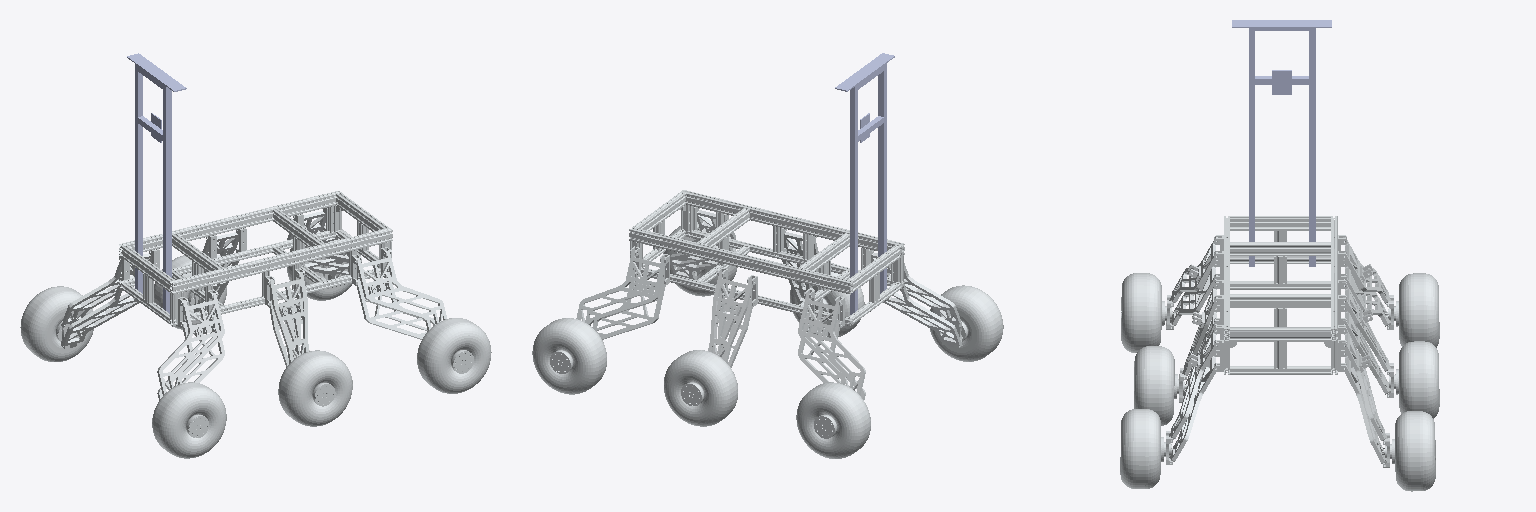
URDF robot description (rover_description):
<robot
  name="rover_description">
  <link
    name="base_link">
    <inertial>
      <origin
        xyz="-0.167915742250863 -0.00938144904480165 0.0624306639563025"
        rpy="0 0 0" />
      <mass
        value="3.87801725916137" />
      <inertia
        ixx="0.0811182033282846"
        ixy="-0.00358580720829277"
        ixz="0.0047898322925803"
        iyy="0.283071990951495"
        iyz="-0.000580133628337215"
        izz="0.340422119687878" />
    </inertial>
    <visual>
      <origin
        xyz="0 0 0"
        rpy="0 0 0" />
      <geometry>
        <mesh
          filename="package://rover_description/meshes/base_link.STL" />
      </geometry>
      <material
        name="">
        <color
          rgba="0.898039215686275 0.917647058823529 0.929411764705882 1" />
      </material>
    </visual>
    <collision>
      <origin
        xyz="0 0 0"
        rpy="0 0 0" />
      <geometry>
        <mesh
          filename="package://rover_description/meshes/base_link.STL" />
      </geometry>
    </collision>
  </link>
  <link
    name="front_left">
    <inertial>
      <origin
        xyz="0.162886988779887 -0.215918147278518 -0.11651747084858"
        rpy="0 0 0" />
      <mass
        value="2.26275358584564" />
      <inertia
        ixx="0.0370475635427153"
        ixy="0.0149342025682205"
        ixz="0.0109400975211723"
        iyy="0.0298431001565816"
        iyz="-0.014956189740743"
        izz="0.0381374574177658" />
    </inertial>
    <visual>
      <origin
        xyz="0 0 0"
        rpy="0 0 0" />
      <geometry>
        <mesh
          filename="package://rover_description/meshes/front_left.STL" />
      </geometry>
      <material
        name="">
        <color
          rgba="0.898039215686275 0.917647058823529 0.929411764705882 1" />
      </material>
    </visual>
    <collision>
      <origin
        xyz="0 0 0"
        rpy="0 0 0" />
      <geometry>
        <mesh
          filename="package://rover_description/meshes/front_left.STL" />
      </geometry>
    </collision>
  </link>
  <joint
    name="front_left_joint"
    type="fixed">
    <origin
      xyz="0.103 0.18087 0.0765"
      rpy="1.5708 0 0" />
    <parent
      link="base_link" />
    <child
      link="front_left" />
    <axis
      xyz="0 0 0" />
  </joint>
  <link
    name="back_left">
    <inertial>
      <origin
        xyz="-0.162981754145838 -0.164904981821672 -0.0414398630181014"
        rpy="0 0 0" />
      <mass
        value="2.2627535858659" />
      <inertia
        ixx="0.0375355897014673"
        ixy="-0.018315212620332"
        ixz="-0.0035271645798929"
        iyy="0.0198064136818086"
        iyz="-0.00637221235572938"
        izz="0.048666783620615" />
    </inertial>
    <visual>
      <origin
        xyz="0 0 0"
        rpy="0 0 0" />
      <geometry>
        <mesh
          filename="package://rover_description/meshes/back_left.STL" />
      </geometry>
      <material
        name="">
        <color
          rgba="0.898039215686275 0.917647058823529 0.929411764705882 1" />
      </material>
    </visual>
    <collision>
      <origin
        xyz="0 0 0"
        rpy="0 0 0" />
      <geometry>
        <mesh
          filename="package://rover_description/meshes/back_left.STL" />
      </geometry>
    </collision>
  </link>
  <joint
    name="back_left_joint"
    type="fixed">
    <origin
      xyz="-0.399 0.192 -0.0085"
      rpy="2.0493 0 0" />
    <parent
      link="base_link" />
    <child
      link="back_left" />
    <axis
      xyz="0 0 0" />
  </joint>
  <link
    name="back_right">
    <inertial>
      <origin
        xyz="-0.162981772699674 -0.231992125957204 0.00748839668721479"
        rpy="0 0 0" />
      <mass
        value="2.26275358586881" />
      <inertia
        ixx="0.0376119867047362"
        ixy="-0.0183400956398054"
        ixz="0.00351048610673877"
        iyy="0.0197933283695233"
        iyz="0.00635437758399683"
        izz="0.0487562770805659" />
    </inertial>
    <visual>
      <origin
        xyz="0 0 0"
        rpy="0 0 0" />
      <geometry>
        <mesh
          filename="package://rover_description/meshes/back_right.STL" />
      </geometry>
      <material
        name="">
        <color
          rgba="0.898039215686275 0.917647058823529 0.929411764705882 1" />
      </material>
    </visual>
    <collision>
      <origin
        xyz="0 0 0"
        rpy="0 0 0" />
      <geometry>
        <mesh
          filename="package://rover_description/meshes/back_right.STL" />
      </geometry>
    </collision>
  </link>
  <joint
    name="back_right_joint"
    type="fixed">
    <origin
      xyz="-0.399 -0.191 0.0665"
      rpy="1.0854 0 0" />
    <parent
      link="base_link" />
    <child
      link="back_right" />
    <axis
      xyz="0 0 0" />
  </joint>
  <link
    name="mid_right">
    <inertial>
      <origin
        xyz="-0.0649971156595212 0.229693834659478 -0.0155335691747258"
        rpy="0 0 0" />
      <mass
        value="2.13425372049233" />
      <inertia
        ixx="0.0361755405494511"
        ixy="-5.03375098942726E-06"
        ixz="2.68328418158515E-06"
        iyy="0.006938041446141"
        iyz="0.00682006400202464"
        izz="0.0341369303319802" />
    </inertial>
    <visual>
      <origin
        xyz="0 0 0"
        rpy="0 0 0" />
      <geometry>
        <mesh
          filename="package://rover_description/meshes/mid_right.STL" />
      </geometry>
      <material
        name="">
        <color
          rgba="0.898039215686275 0.917647058823529 0.929411764705882 1" />
      </material>
    </visual>
    <collision>
      <origin
        xyz="0 0 0"
        rpy="0 0 0" />
      <geometry>
        <mesh
          filename="package://rover_description/meshes/mid_right.STL" />
      </geometry>
    </collision>
  </link>
  <joint
    name="mid_right_joint"
    type="fixed">
    <origin
      xyz="-0.083 -0.191 0.0665"
      rpy="-1.9102 0 0" />
    <parent
      link="base_link" />
    <child
      link="mid_right" />
    <axis
      xyz="0 0 0" />
  </joint>
  <link
    name="front_right">
    <inertial>
      <origin
        xyz="-0.163057654672996 -0.232048924021065 -0.00711767878082914"
        rpy="0 0 0" />
      <mass
        value="2.2627535858721" />
      <inertia
        ixx="0.0377008253361543"
        ixy="-0.018390387285993"
        ixz="-0.0034962884949824"
        iyy="0.0198001303441898"
        iyz="-0.0063312239246662"
        izz="0.0488843492402936" />
    </inertial>
    <visual>
      <origin
        xyz="0 0 0"
        rpy="0 0 0" />
      <geometry>
        <mesh
          filename="package://rover_description/meshes/front_right.STL" />
      </geometry>
      <material
        name="">
        <color
          rgba="0.898039215686275 0.917647058823529 0.929411764705882 1" />
      </material>
    </visual>
    <collision>
      <origin
        xyz="0 0 0"
        rpy="0 0 0" />
      <geometry>
        <mesh
          filename="package://rover_description/meshes/front_right.STL" />
      </geometry>
    </collision>
  </link>
  <joint
    name="front_right_joint"
    type="fixed">
    <origin
      xyz="0.103 -0.191 0.0665"
      rpy="2.0644 0 3.1416" />
    <parent
      link="base_link" />
    <child
      link="front_right" />
    <axis
      xyz="0 0 0" />
  </joint>
  <link
    name="antenna">
    <inertial>
      <origin
        xyz="0.0266465093411985 -0.439522553116282 -0.00892368045649072"
        rpy="0 0 0" />
      <mass
        value="0.841200000000004" />
      <inertia
        ixx="0.0514324532726106"
        ixy="-1.14660429812846E-17"
        ixz="-2.03611622193766E-17"
        iyy="0.00593412590028532"
        iyz="0.000250698864479315"
        izz="0.0572766473723253" />
    </inertial>
    <visual>
      <origin
        xyz="0 0 0"
        rpy="0 0 0" />
      <geometry>
        <mesh
          filename="package://rover_description/meshes/antenna.STL" />
      </geometry>
      <material
        name="">
        <color
          rgba="0.792156862745098 0.819607843137255 0.933333333333333 1" />
      </material>
    </visual>
    <collision>
      <origin
        xyz="0 0 0"
        rpy="0 0 0" />
      <geometry>
        <mesh
          filename="package://rover_description/meshes/antenna.STL" />
      </geometry>
    </collision>
  </link>
  <joint
    name="antenna_joint"
    type="fixed">
    <origin
      xyz="-0.508 0.031147 0.018226"
      rpy="-1.5708 -6.123E-17 -1.5708" />
    <parent
      link="base_link" />
    <child
      link="antenna" />
    <axis
      xyz="0 0 0" />
  </joint>
  <link
    name="camera">
    <inertial>
      <origin
        xyz="-0.0367218445696466 0.182133887938988 -1.0639015501912E-09"
        rpy="0 0 0" />
      <mass
        value="0.237009266100115" />
      <inertia
        ixx="0.00179590769076528"
        ixy="-6.5203901668227E-11"
        ixz="-1.76867999108529E-11"
        iyy="4.73181891509168E-05"
        iyz="1.34363641690349E-11"
        izz="0.00182305206851972" />
    </inertial>
    <visual>
      <origin
        xyz="0 0 0"
        rpy="0 0 0" />
      <geometry>
        <mesh
          filename="package://rover_description/meshes/camera.STL" />
      </geometry>
      <material
        name="">
        <color
          rgba="0.898039215686275 0.917647058823529 0.929411764705882 1" />
      </material>
    </visual>
    <collision>
      <origin
        xyz="0 0 0"
        rpy="0 0 0" />
      <geometry>
        <mesh
          filename="package://rover_description/meshes/camera.STL" />
      </geometry>
    </collision>
  </link>
  <joint
    name="camera_joint"
    type="fixed">
    <origin
      xyz="0.242 -0.18213 0.14822"
      rpy="0 -1.5708 0" />
    <parent
      link="base_link" />
    <child
      link="camera" />
    <axis
      xyz="0 0 0" />
  </joint>
  <link
    name="mid_left">
    <inertial>
      <origin
        xyz="-0.0650755400521924 0.228364718768154 0.009094867760298"
        rpy="0 0 0" />
      <mass
        value="2.07603410965556" />
      <inertia
        ixx="0.0370912529767464"
        ixy="1.52950147458274E-05"
        ixz="3.94456235950462E-06"
        iyy="0.00665169124905468"
        iyz="-0.00652533818881066"
        izz="0.0353317185753018" />
    </inertial>
    <visual>
      <origin
        xyz="0 0 0"
        rpy="0 0 0" />
      <geometry>
        <mesh
          filename="package://rover_description/meshes/mid_left.STL" />
      </geometry>
      <material
        name="">
        <color
          rgba="0.898039215686275 0.917647058823529 0.929411764705882 1" />
      </material>
    </visual>
    <collision>
      <origin
        xyz="0 0 0"
        rpy="0 0 0" />
      <geometry>
        <mesh
          filename="package://rover_description/meshes/mid_left.STL" />
      </geometry>
    </collision>
  </link>
  <joint
    name="mid_left_joint"
    type="fixed">
    <origin
      xyz="-0.083 0.191 0.0665"
      rpy="-1.0923 0 0" />
    <parent
      link="base_link" />
    <child
      link="mid_left" />
    <axis
      xyz="0 0 0" />
  </joint>

<gazebo>
    <plugin name="gazebo_ros_control" filename="libgazebo_ros_control.so">
      <robotNamespace>/</robotNamespace>
    </plugin>
</gazebo>


</robot>

--- Facts derived from the render (not from the file) ---
Views: 3 orthographic renders of the robot side by side, from view 1: azimuth 30°, elevation 25°; view 2: azimuth 150°, elevation 25°; view 3: azimuth 270°, elevation 25°.
Robot: rover_description — 9 links, 8 joints (8 fixed); root link base_link; default pose: every joint at zero.
Visible links, largest first — view 1: base_link, front_right, back_right, mid_right, back_left, antenna, front_left, mid_left, camera; view 2: base_link, back_left, front_left, mid_left, back_right, antenna, front_right, mid_right, camera; view 3: base_link, front_right, front_left, back_right, mid_left, back_left, antenna, mid_right, camera.
Boxes of the visible links, bbox=[...] form: base_link: bbox=[119, 191, 392, 326]; front_right: bbox=[352, 247, 491, 393]; back_right: bbox=[152, 289, 226, 458]; mid_right: bbox=[265, 268, 352, 426]; back_left: bbox=[20, 249, 159, 361]; antenna: bbox=[127, 53, 186, 313]; front_left: bbox=[287, 208, 360, 300]; mid_left: bbox=[154, 228, 246, 329]; camera: bbox=[336, 193, 388, 231]; base_link: bbox=[629, 190, 904, 325]; back_left: bbox=[796, 289, 870, 458]; front_left: bbox=[532, 246, 669, 394]; mid_left: bbox=[664, 268, 757, 426]; back_right: bbox=[869, 249, 1003, 361]; antenna: bbox=[835, 53, 894, 314]; front_right: bbox=[663, 207, 737, 296]; mid_right: bbox=[782, 228, 864, 337]; camera: bbox=[633, 192, 685, 230]; base_link: bbox=[1224, 216, 1337, 374]; front_right: bbox=[1120, 325, 1223, 488]; front_left: bbox=[1338, 325, 1435, 491]; back_right: bbox=[1121, 235, 1223, 352]; mid_left: bbox=[1338, 280, 1439, 418]; back_left: bbox=[1338, 235, 1439, 347]; antenna: bbox=[1232, 20, 1331, 266]; mid_right: bbox=[1134, 280, 1223, 425]; camera: bbox=[1230, 327, 1330, 340].
Size in the robot's own frame: 1.2 by 0.9534 by 1.15 metres.
Meshes: 9 distinct files referenced, 9 mesh visuals loaded (9 binary STL).